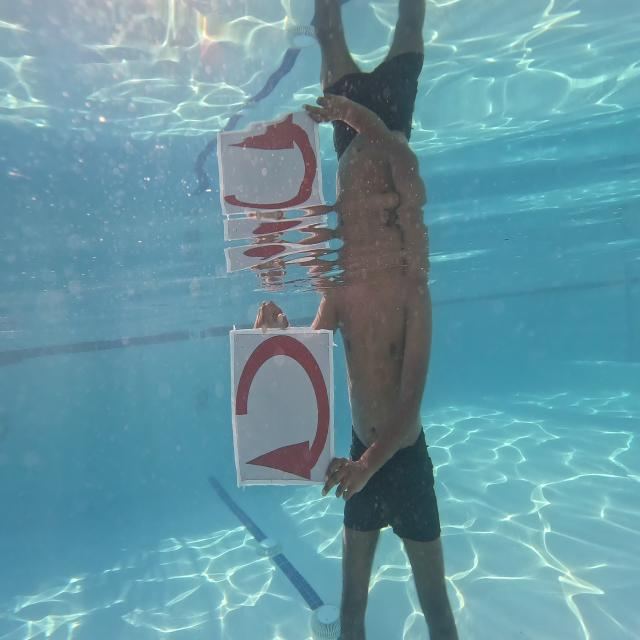red_side: (230, 326, 332, 488)
